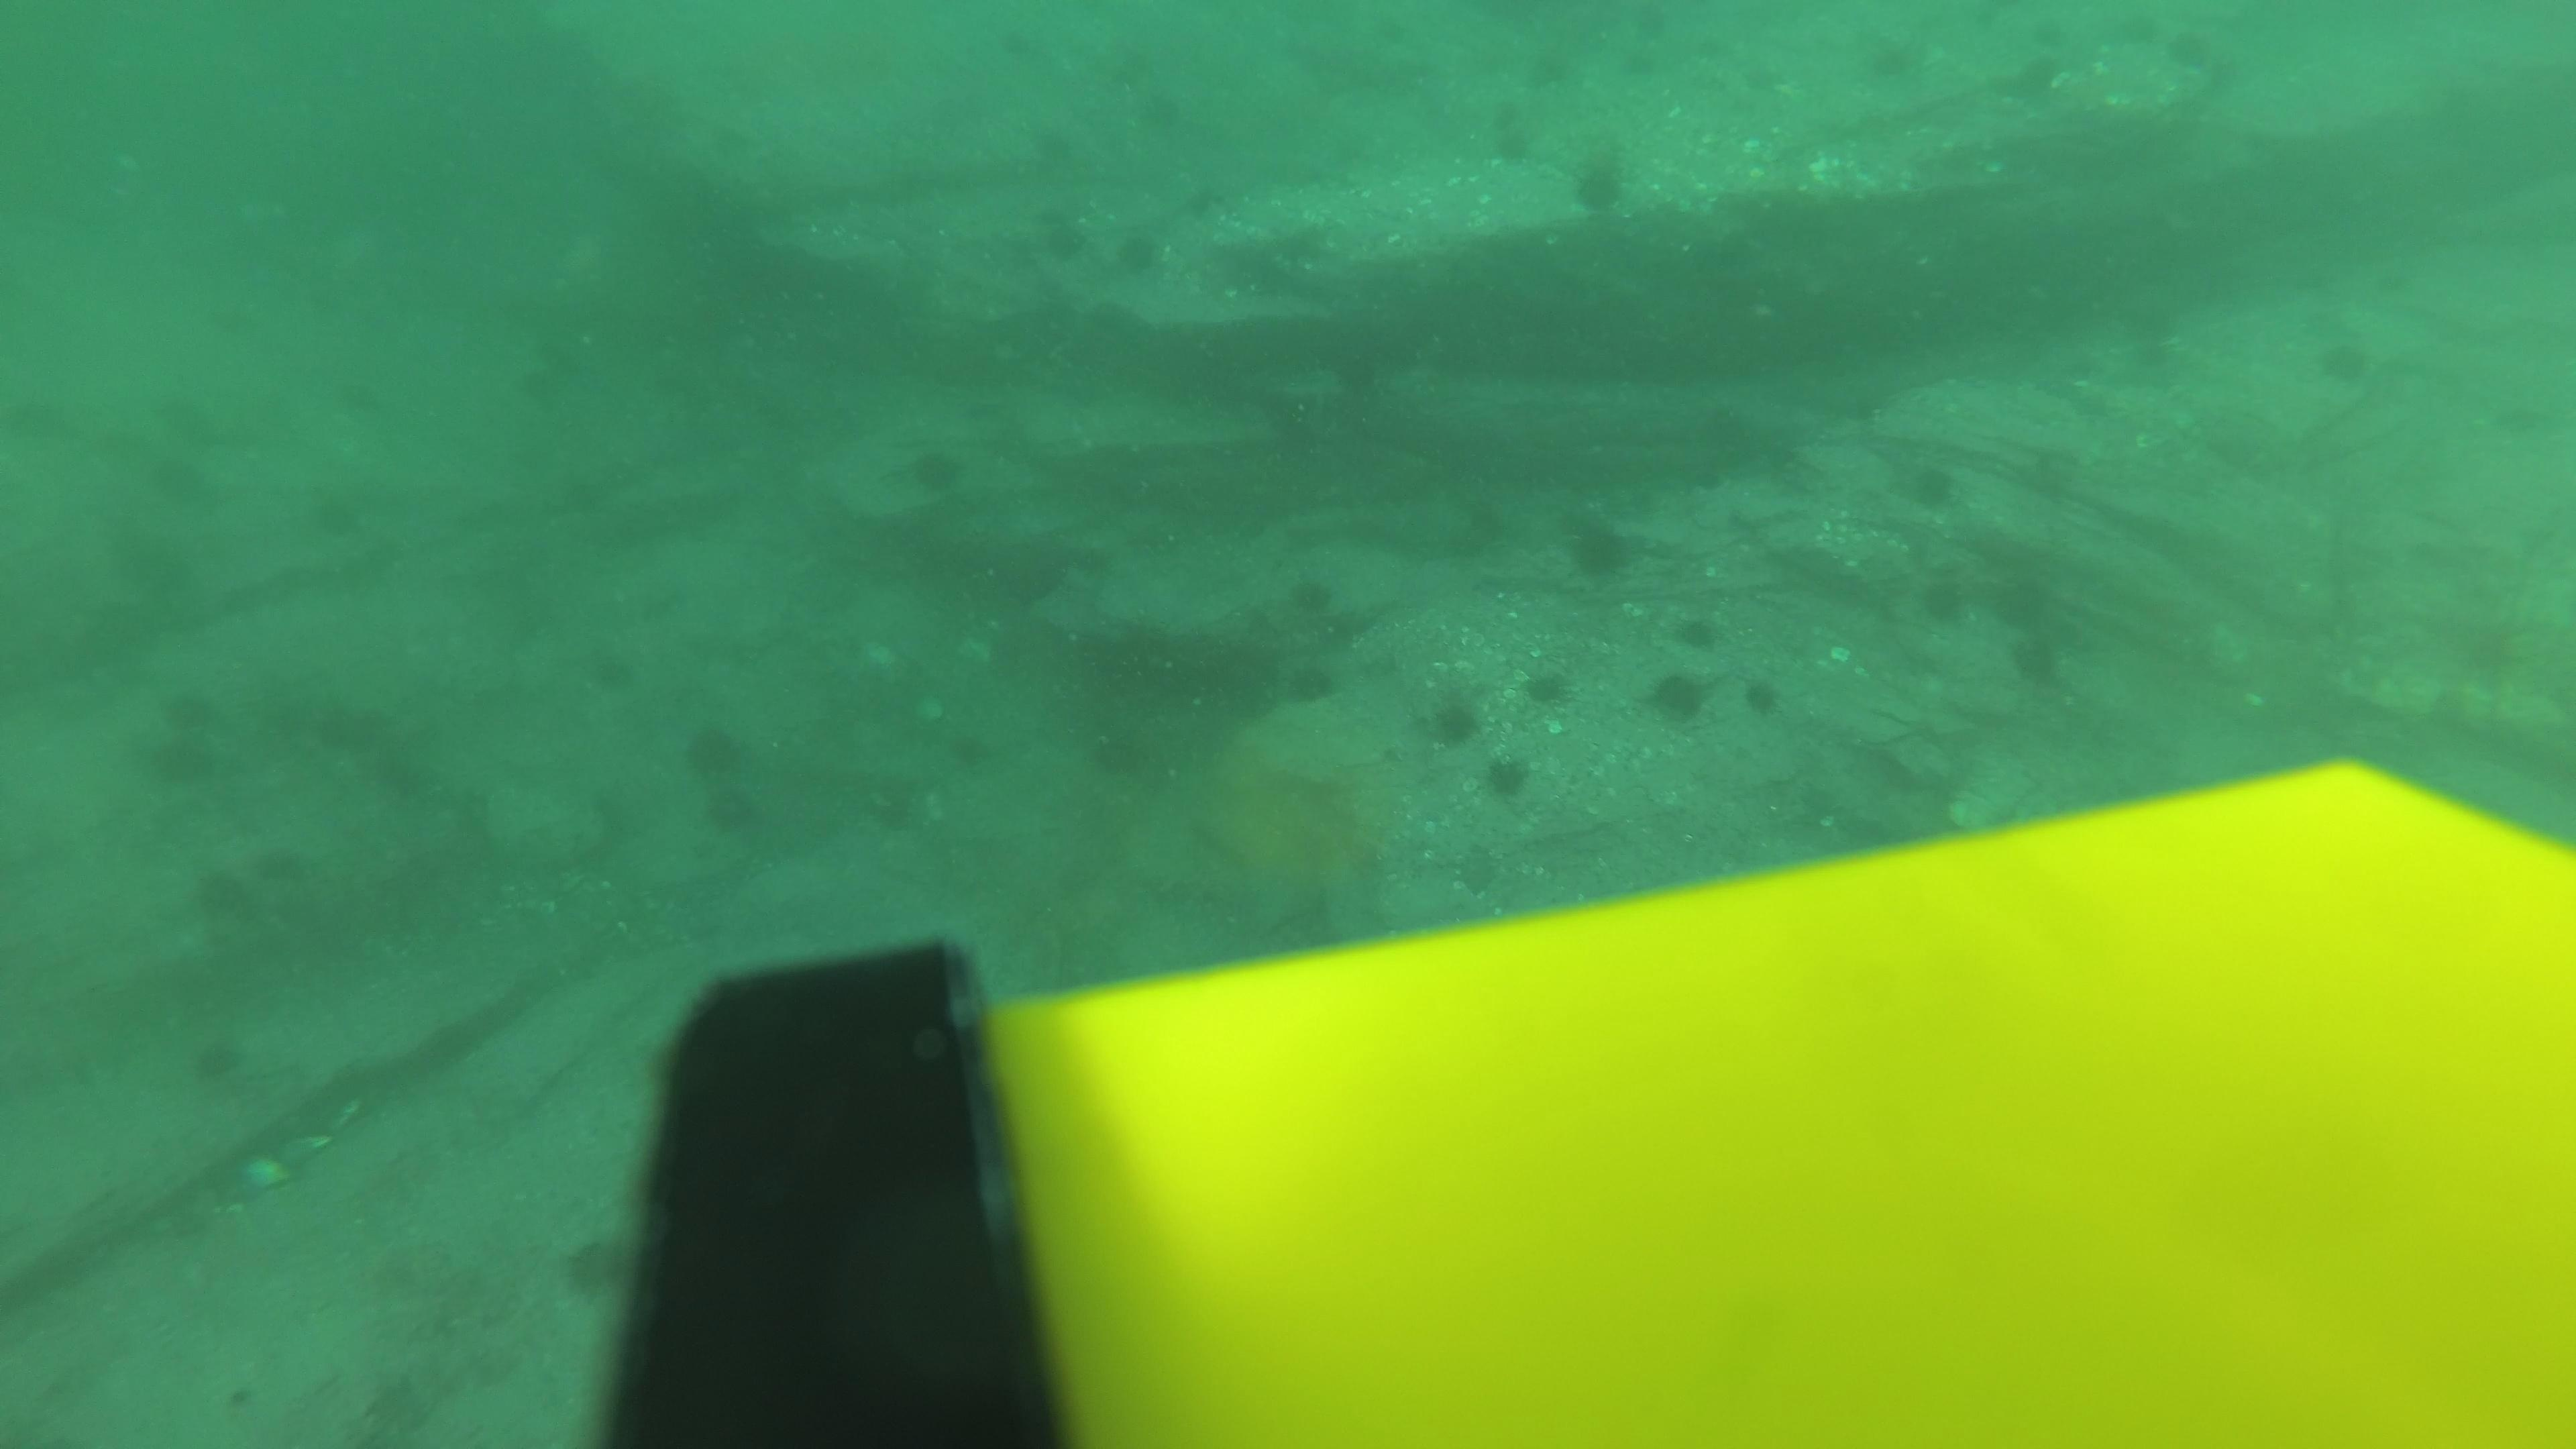echinus: (1557, 508, 1644, 586), (557, 1226, 639, 1306), (1999, 619, 2077, 694), (131, 727, 214, 791), (175, 867, 258, 931), (234, 828, 317, 892), (113, 529, 196, 593), (140, 444, 223, 508), (154, 389, 237, 453), (318, 359, 402, 423), (1562, 147, 1635, 219), (143, 669, 225, 732), (1414, 683, 1488, 752), (899, 437, 971, 504), (1642, 663, 1716, 729), (702, 766, 775, 832), (573, 632, 646, 697), (1272, 655, 1345, 720), (678, 717, 750, 780), (858, 766, 931, 830), (918, 725, 991, 789), (1081, 720, 1154, 784), (1660, 605, 1732, 669), (1281, 561, 1353, 625), (1323, 347, 1396, 410), (1026, 203, 1099, 267), (182, 1028, 253, 1092), (1893, 455, 1966, 517), (2134, 2, 2206, 64), (2008, 35, 2081, 97), (1513, 30, 1585, 92), (1479, 113, 1552, 175), (2314, 338, 2385, 400), (2121, 283, 2192, 345), (2127, 318, 2197, 380), (2160, 19, 2231, 81), (1858, 25, 1928, 87), (1605, 0, 1675, 62), (1474, 74, 1545, 136), (1021, 113, 1092, 175), (989, 16, 1060, 78), (1127, 78, 1200, 138), (1913, 566, 1974, 633), (1108, 221, 1171, 283), (1516, 658, 1576, 713), (1477, 750, 1536, 805), (308, 502, 373, 547), (1737, 672, 1785, 722)
starfish: (1198, 757, 1392, 929)
